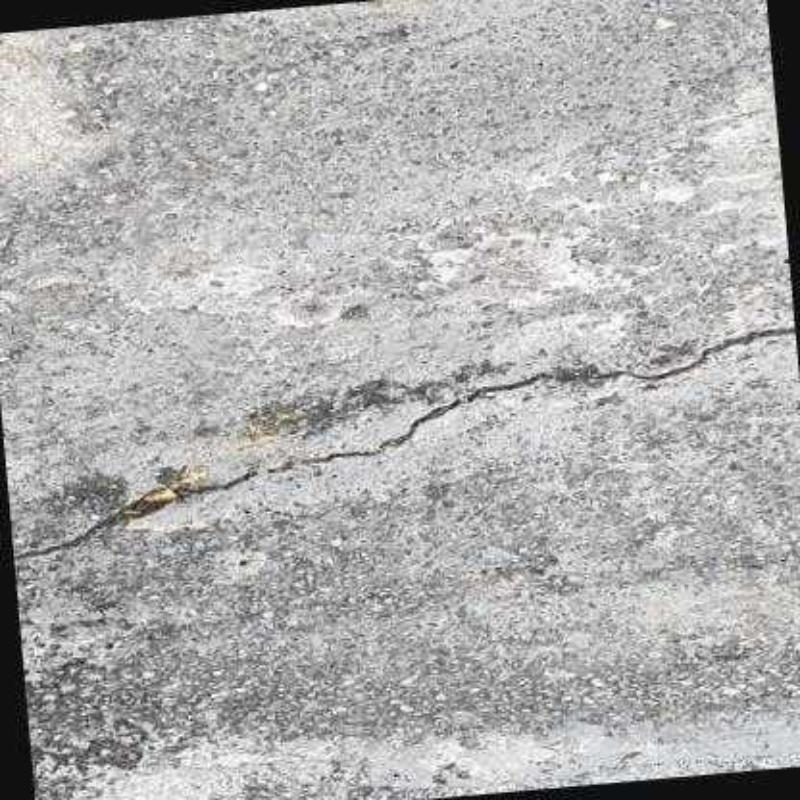pothole: (12, 326, 796, 562)
